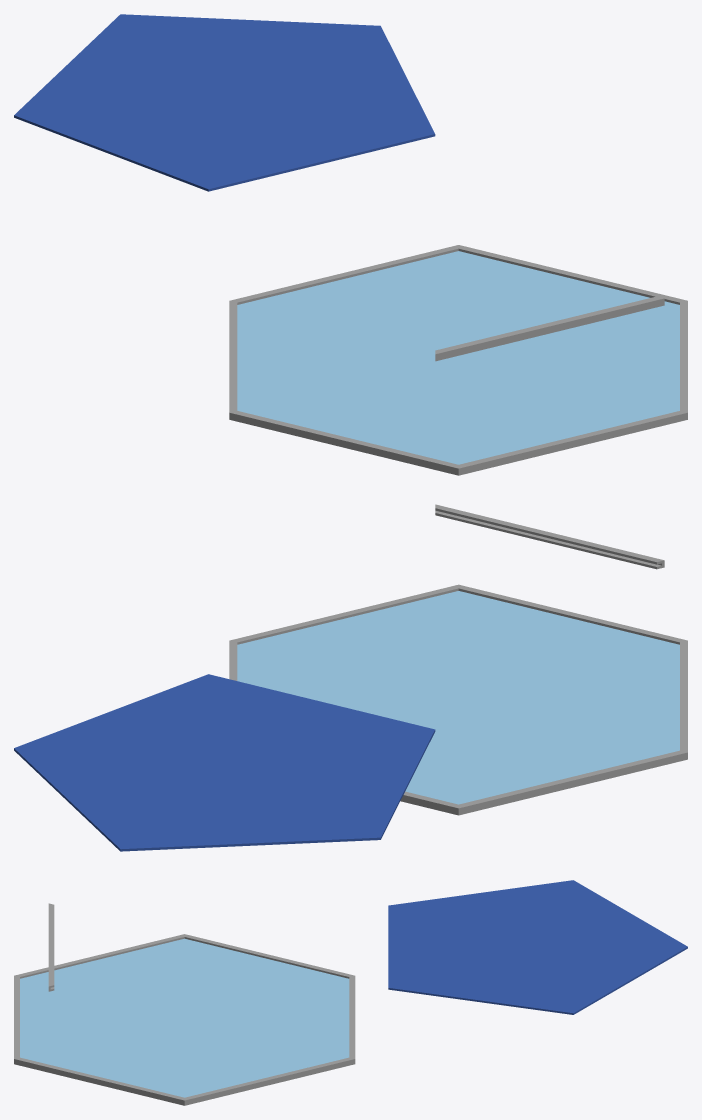
The model's file is HexPanel.dae.
3 renders of one model, top to bottom at view 1: azimuth 30°, elevation 25°; view 2: azimuth 150°, elevation 25°; view 3: azimuth 270°, elevation 25°, orthographic. The views are drawn at different scales.
Visible parts, largest first — view 1: 5d47b9d834552915f5f0f730 (×4); view 2: 5d47b9d834552915f5f0f730 (×4); view 3: 5d47b9d834552915f5f0f730 (×4).
Part boxes in pixels (x1=…): 5d47b9d834552915f5f0f730 (×4): x1=14, y1=14, x2=687, y2=475; 5d47b9d834552915f5f0f730 (×4): x1=14, y1=504, x2=687, y2=851; 5d47b9d834552915f5f0f730 (×4): x1=14, y1=880, x2=687, y2=1105.
Size of the model in its own units: 0.5058 by 0.8651 by 0.11.
